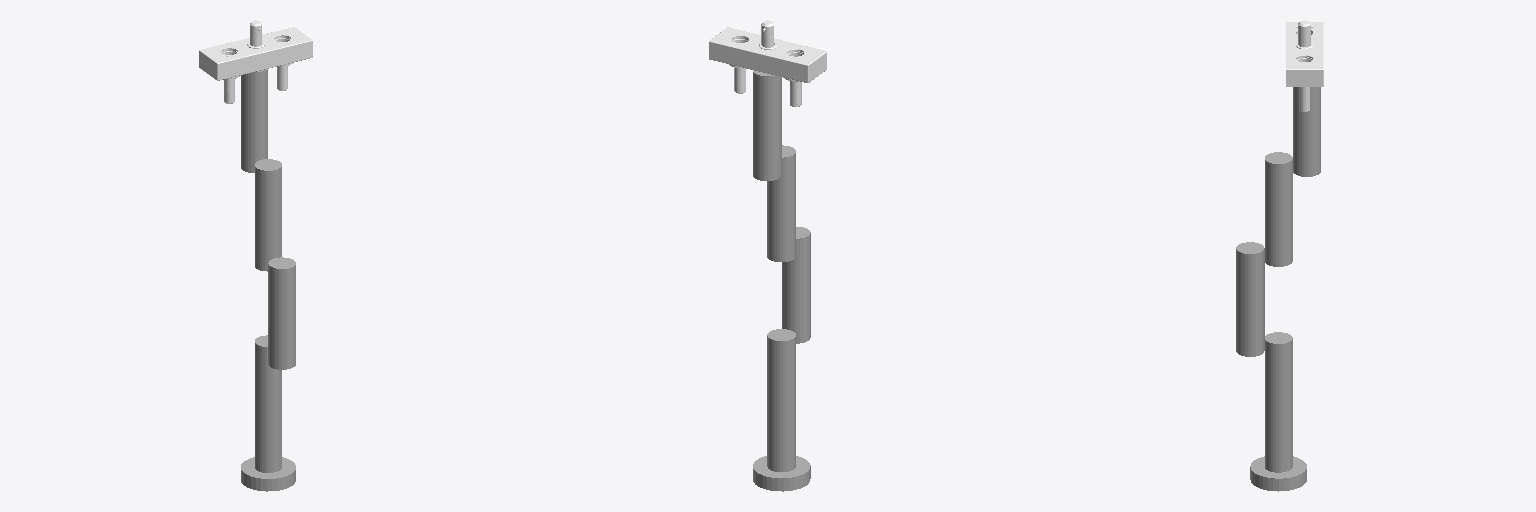
robot.urdf — arm:
<?xml version="1.0" ?>
<!-- =================================================================================== -->
<!-- |    This document was autogenerated by xacro from [local-path]/catkin_ws/src/robotic-arm-refuelling/urdf/arm/arm.urdf.xacro | -->
<!-- |    EDITING THIS FILE BY HAND IS NOT RECOMMENDED                                 | -->
<!-- =================================================================================== -->
<robot name="arm">
    <link name="world" />
    <link name="base_link">
        <visual>
            <geometry>
                <cylinder length="0.05" radius="0.1" />
            </geometry>
            <material name="silver">
                <color rgba="0.75 0.75 0.75 1" />
            </material>
            <origin rpy="0 0 0" xyz="0 0 0.025" />
        </visual>
        <collision>
            <geometry>
                <cylinder length="0.05" radius="0.1" />
            </geometry>
            <origin rpy="0 0 0" xyz="0 0 0.025" />
        </collision>
        <inertial>
            <origin rpy="0 0 0" xyz="0 0 0.025" />
            <mass value="5.0" />
            <inertia ixx="0.0135" ixy="0.0" ixz="0.0" iyy="0.0135" iyz="0.0" izz="0.05" />
        </inertial>
    </link>
    <joint name="fixed" type="fixed">
        <parent link="world" />
        <child link="base_link" />
    </joint>
    <link name="link_1">
        <visual>
            <geometry>
                <cylinder length="0.5" radius="0.05" />
            </geometry>
            <material name="silver">
                <color rgba="0.75 0.75 0.75 1" />
            </material>
            <origin rpy="0 0 0" xyz="0 0 0.25" />
        </visual>
        <collision>
            <geometry>
                <cylinder length="0.5" radius="0.05" />
            </geometry>
            <origin rpy="0 0 0" xyz="0 0 0.25" />
        </collision>
        <inertial>
            <origin rpy="0 0 0" xyz="0 0 0.25" />
            <mass value="5.0" />
            <inertia ixx="0.107" ixy="0.0" ixz="0.0" iyy="0.107" iyz="0.0" izz="0.0125" />
        </inertial>
    </link>
    <joint name="joint1" type="continuous">
        <axis xyz="0 0 1" />
        <parent link="base_link" />
        <child link="link_1" />
        <origin rpy="0 0 0" xyz="0.0 0.0 0.05" />
    </joint>
    <link name="link_2">
        <inertial>
            <origin rpy="0 0 0" xyz="0 0 0.2" />
            <mass value="2.0" />
            <inertia ixx="0.027" ixy="0.0" ixz="0.0" iyy="0.027" iyz="0.0" izz="0.0025" />
        </inertial>
        <visual>
            <geometry>
                <cylinder length="0.4" radius="0.05" />
            </geometry>
            <material name="silver" />
            <origin rpy="0 0 0" xyz="0 0 0.2" />
        </visual>
        <collision>
            <geometry>
                <cylinder length="0.4" radius="0.05" />
            </geometry>
            <origin rpy="0 0 0" xyz="0 0 0.2" />
        </collision>
    </link>
    <joint name="joint2" type="continuous">
        <axis xyz="0 1 0" />
        <parent link="link_1" />
        <child link="link_2" />
        <origin rpy="0 0 0" xyz="0.0 -0.1 0.45" />
    </joint>
    <link name="link_3">
        <inertial>
            <origin rpy="0 0 0" xyz="0 0 0.2" />
            <mass value="2.0" />
            <inertia ixx="0.027" ixy="0.0" ixz="0.0" iyy="0.027" iyz="0.0" izz="0.0025" />
        </inertial>
        <visual>
            <geometry>
                <cylinder length="0.4" radius="0.05" />
            </geometry>
            <material name="silver" />
            <origin rpy="0 0 0" xyz="0 0 0.2" />
        </visual>
        <collision>
            <geometry>
                <cylinder length="0.4" radius="0.05" />
            </geometry>
            <origin rpy="0 0 0" xyz="0 0 0.2" />
        </collision>
    </link>
    <joint name="joint3" type="continuous">
        <axis xyz="0 1 0" />
        <parent link="link_2" />
        <child link="link_3" />
        <origin rpy="0 0 0" xyz="0.0 0.1 0.35" />
    </joint>
    <link name="link_4">
        <inertial>
            <origin rpy="0 0 0" xyz="0 0 0.2" />
            <mass value="2.0" />
            <inertia ixx="0.027" ixy="0.0" ixz="0.0" iyy="0.027" iyz="0.0" izz="0.0025" />
        </inertial>
        <visual>
            <geometry>
                <cylinder length="0.4" radius="0.05" />
            </geometry>
            <material name="silver" />
            <origin rpy="0 0 0" xyz="0 0 0.2" />
        </visual>
        <collision>
            <geometry>
                <cylinder length="0.4" radius="0.05" />
            </geometry>
            <origin rpy="0 0 0" xyz="0 0 0.2" />
        </collision>
    </link>
    <joint name="joint4" type="continuous">
        <axis xyz="0 1 0" />
        <parent link="link_3" />
        <child link="link_4" />
        <origin rpy="0 0 0" xyz="0.0 0.1 0.35" />
    </joint>
    <link name="camera_link" />
    <joint name="camera_joint" type="fixed">
        <parent link="link_4" />
        <child link="camera_link" />
        <origin rpy="1.57 -1.57 0" xyz="0 0 0.55" />
    </joint>
    <link name="link_5">
        <visual>
            <origin rpy="3.14 0 0" xyz="-0.2 0.06 0.58" />
            <geometry>
                <mesh filename="package://robotic-arm-refuelling/meshes/refueller/injector.stl" scale="0.003 0.003 0.003" />
            </geometry>
            <material name="">
                <color rgba="1 1 1 1" />
            </material>
        </visual>
        <collision>
            <origin rpy="3.14 0 0" xyz="-0.2 0.06 0.58" />
            <geometry>
                <mesh filename="package://robotic-arm-refuelling/meshes/refueller/injector.stl" scale="0.003 0.003 0.003" />
            </geometry>
        </collision>
        <inertial>
            <mass value="10" />
            <inertia ixx="0.4" ixy="0.0" ixz="0.0" iyy="0.4" iyz="0.0" izz="0.4" />
            <origin xyz="0 0 0" rpy="0 0 0" />
        </inertial>
    </link>
    <joint name="joint5" type="revolute">
        <origin rpy="0 0 0" xyz="0 0 0" />
        <axis xyz="0 0 1" />
        <parent link="link_4" />
        <child link="link_5" />
        <limit effort="30" lower="-1.5708" upper="3.1416" velocity="1.0" />
    </joint>
    <gazebo reference="base_link">
        <material>Gazebo/Black</material>
        <plugin name="gazebo_ros_control">
            <robotNamespace>/</robotNamespace>
        </plugin>
    </gazebo>
    <gazebo reference="link_1">
        <material>Gazebo/Grey</material>
    </gazebo>
    <gazebo reference="link_2">
        <material>Gazebo/Orange</material>
    </gazebo>
    <gazebo reference="link_3">
        <material>Gazebo/Black</material>
    </gazebo>
    <gazebo reference="link_4">
        <material>Gazebo/Yellow</material>
    </gazebo>
    <gazebo reference="camera_link">
        <material>Gazebo/Red</material>
    </gazebo>
    <!-- PositionJointInterface -->
    <transmission name="trans_1">
        <type>transmission_interface/SimpleTransmission</type>
        <joint name="joint1">
            <hardwareInterface>hardware_interface/PositionJointInterface</hardwareInterface>
        </joint>
        <actuator name="motor_1">
            <hardwareInterface>hardware_interface/PositionJointInterface</hardwareInterface>
            <mechanicalReduction>1</mechanicalReduction>
        </actuator>
    </transmission>
    <transmission name="trans_2">
        <type>transmission_interface/SimpleTransmission</type>
        <joint name="joint2">
            <hardwareInterface>hardware_interface/PositionJointInterface</hardwareInterface>
        </joint>
        <actuator name="motor_2">
            <hardwareInterface>hardware_interface/PositionJointInterface</hardwareInterface>
            <mechanicalReduction>1</mechanicalReduction>
        </actuator>
    </transmission>
    <transmission name="trans_3">
        <type>transmission_interface/SimpleTransmission</type>
        <joint name="joint3">
            <hardwareInterface>hardware_interface/PositionJointInterface</hardwareInterface>
        </joint>
        <actuator name="motor_3">
            <hardwareInterface>hardware_interface/PositionJointInterface</hardwareInterface>
            <mechanicalReduction>1</mechanicalReduction>
        </actuator>
    </transmission>
    <transmission name="trans_4">
        <type>transmission_interface/SimpleTransmission</type>
        <joint name="joint4">
            <hardwareInterface>hardware_interface/PositionJointInterface</hardwareInterface>
        </joint>
        <actuator name="motor_4">
            <hardwareInterface>hardware_interface/PositionJointInterface</hardwareInterface>
            <mechanicalReduction>1</mechanicalReduction>
        </actuator>
    </transmission>
    <transmission name="trans_5">
        <type>transmission_interface/SimpleTransmission</type>
        <joint name="joint5">
            <hardwareInterface>hardware_interface/PositionJointInterface</hardwareInterface>
        </joint>
        <actuator name="motor_5">
            <hardwareInterface>hardware_interface/PositionJointInterface</hardwareInterface>
            <mechanicalReduction>1</mechanicalReduction>
        </actuator>
    </transmission>
    <gazebo>
        <plugin filename="libgazebo_ros_control.so" name="control" />
    </gazebo>
    <gazebo reference="camera_link">
        <sensor name="camera" type="camera">
            <pose>0 0 0 0 0 0</pose>
            <visualize>true</visualize>
            <update_rate>10</update_rate>
            <camera>
                <horizontal_fov>1.089</horizontal_fov>
                <image>
                    <format>R8G8B8</format>
                    <width>640</width>
                    <height>480</height>
                </image>
                <clip>
                    <near>0.05</near>
                    <far>8.0</far>
                </clip>
            </camera>
            <plugin filename="libgazebo_ros_camera.so" name="camera_controller">
                <frame_name>camera_link_optical</frame_name>
            </plugin>
        </sensor>
    </gazebo>
</robot>

--- Facts derived from the render (not from the file) ---
The picture shows the robot from 3 angles, left to right: view 1: azimuth 30°, elevation 25°; view 2: azimuth 150°, elevation 25°; view 3: azimuth 270°, elevation 25°; orthographic projection.
Model arm with 8 links and 7 joints (1 revolute, 4 continuous, 2 fixed), rooted at world, posed all joints at 0.
Links seen in each view (by area): view 1: link_5, link_1, link_2, link_3, link_4, base_link; view 2: link_5, link_1, link_4, link_3, link_2, base_link; view 3: link_1, link_2, link_3, link_5, link_4, base_link.
Boxes of the visible links, x1=… form: link_5: x1=199, y1=20, x2=312, y2=103; link_1: x1=255, y1=335, x2=281, y2=472; link_2: x1=268, y1=257, x2=295, y2=369; link_3: x1=255, y1=159, x2=281, y2=271; link_4: x1=241, y1=69, x2=267, y2=172; base_link: x1=241, y1=457, x2=295, y2=491; link_5: x1=709, y1=20, x2=826, y2=106; link_1: x1=767, y1=329, x2=795, y2=471; link_4: x1=753, y1=70, x2=781, y2=180; link_3: x1=767, y1=145, x2=795, y2=261; link_2: x1=782, y1=227, x2=810, y2=343; base_link: x1=753, y1=456, x2=810, y2=491; link_1: x1=1265, y1=332, x2=1292, y2=472; link_2: x1=1236, y1=242, x2=1264, y2=356; link_3: x1=1265, y1=152, x2=1292, y2=266; link_5: x1=1286, y1=20, x2=1323, y2=111; link_4: x1=1293, y1=87, x2=1320, y2=176; base_link: x1=1250, y1=456, x2=1306, y2=491.
Bounding box of the posed robot: 0.399 × 0.3092 × 1.78 m (x, y, z).
Meshes: 1 distinct files referenced, 1 mesh visuals loaded (1 binary STL).